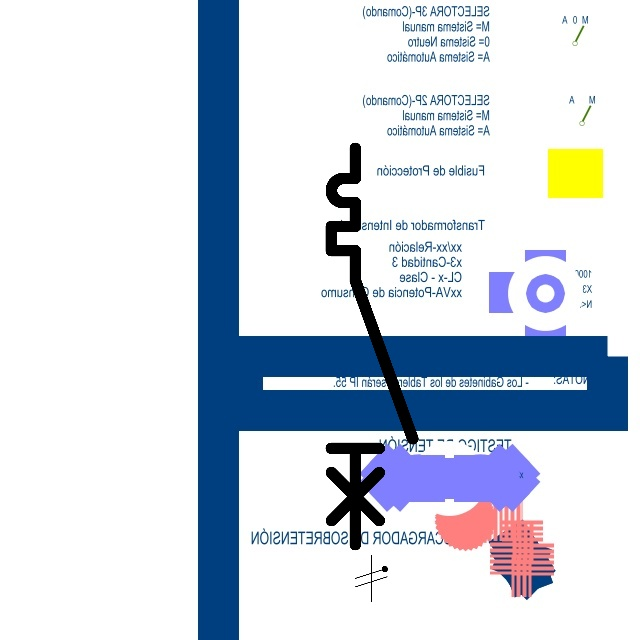interruptor_termomagnetico: (321, 138, 423, 555)
